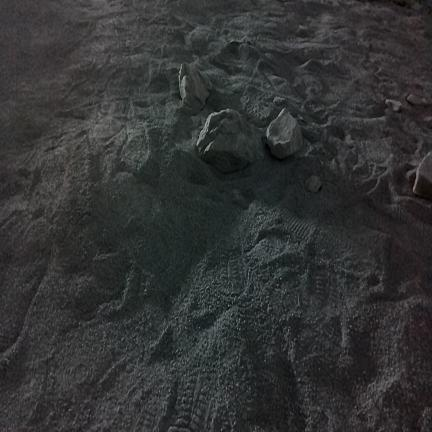Rock: (197, 109, 263, 172), (266, 108, 303, 159), (179, 63, 212, 109), (413, 152, 431, 199), (305, 176, 321, 192), (407, 94, 430, 105), (386, 99, 401, 111), (273, 96, 285, 106)
